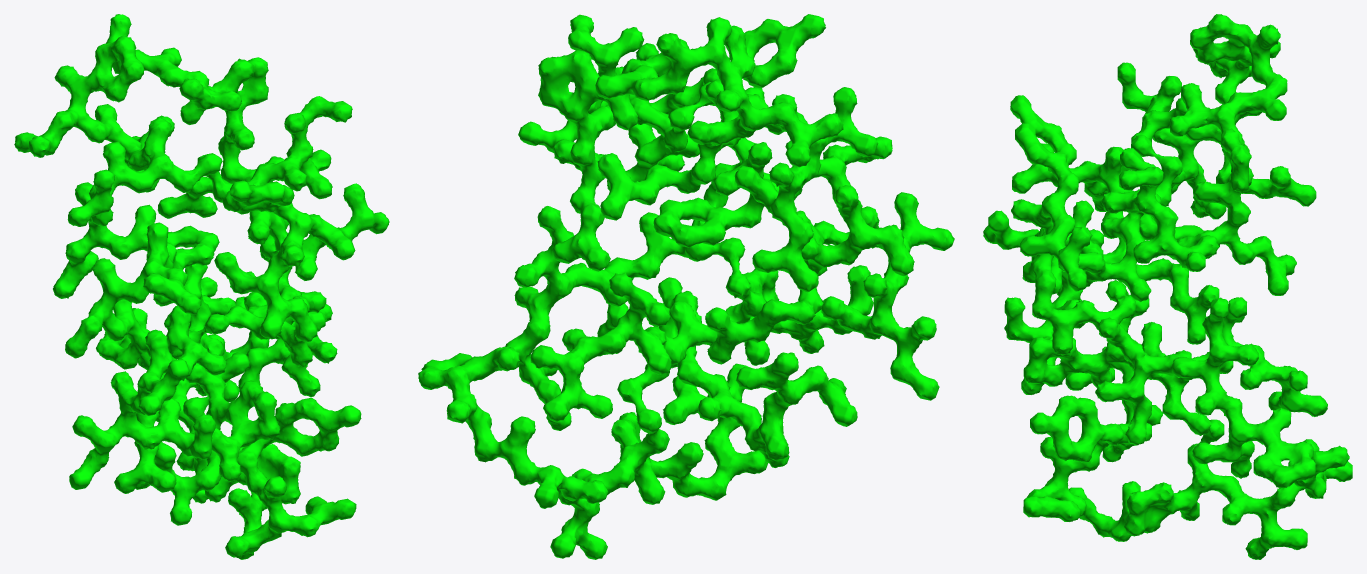
Rendered from prot5.fbx.
3 renders of one model, left to right at view 1: azimuth 30°, elevation 25°; view 2: azimuth 150°, elevation 25°; view 3: azimuth 270°, elevation 25°, orthographic. The views are drawn at different scales.
Visible parts, largest first — view 1: Volume_Mesher; view 2: Volume_Mesher; view 3: Volume_Mesher.
Boxes of the visible parts, box(x1,y1,x2,y2) form: Volume_Mesher: box(14, 14, 389, 559); Volume_Mesher: box(418, 14, 954, 559); Volume_Mesher: box(983, 14, 1352, 559).
Size of the model in its own units: 22.82 by 30.03 by 20.23.
